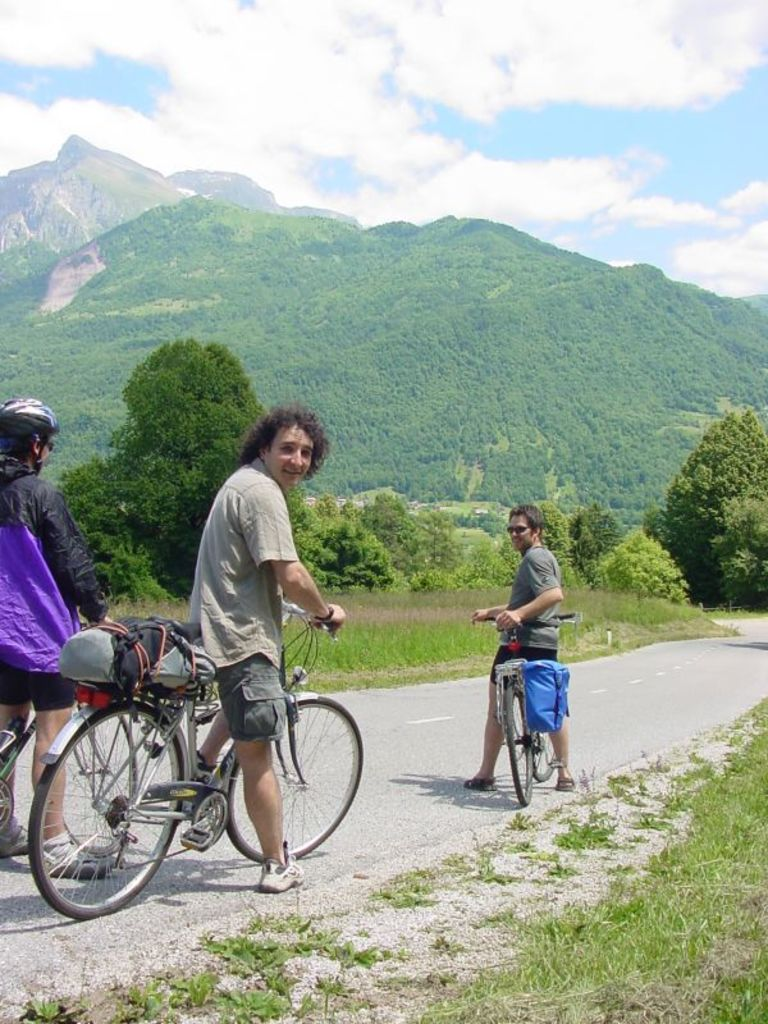Bike: (23, 613, 375, 920), (473, 609, 581, 803)
